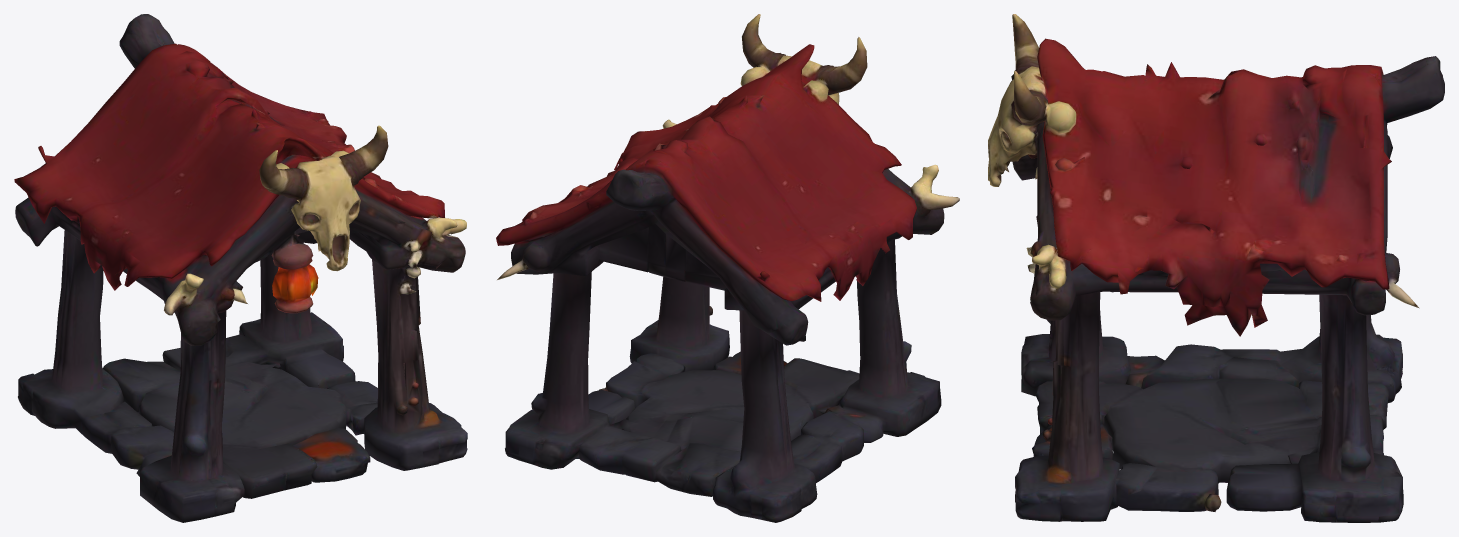
3 renders of one model, left to right at view 1: azimuth 30°, elevation 25°; view 2: azimuth 150°, elevation 25°; view 3: azimuth 270°, elevation 25°, orthographic. The views are drawn at different scales.
Parts seen in each view (by area): view 1: tripo_node_4e94a4e4-d431-44a4-adec-9f06e114b759; view 2: tripo_node_4e94a4e4-d431-44a4-adec-9f06e114b759; view 3: tripo_node_4e94a4e4-d431-44a4-adec-9f06e114b759.
Part boxes in pixels (x1=…): tripo_node_4e94a4e4-d431-44a4-adec-9f06e114b759: x1=14, y1=14, x2=467, y2=522; tripo_node_4e94a4e4-d431-44a4-adec-9f06e114b759: x1=496, y1=14, x2=959, y2=522; tripo_node_4e94a4e4-d431-44a4-adec-9f06e114b759: x1=988, y1=14, x2=1444, y2=522.
Size of the model in its own units: 0.9021 by 0.9726 by 1.
Materials: 1 (1 with a texture image).
